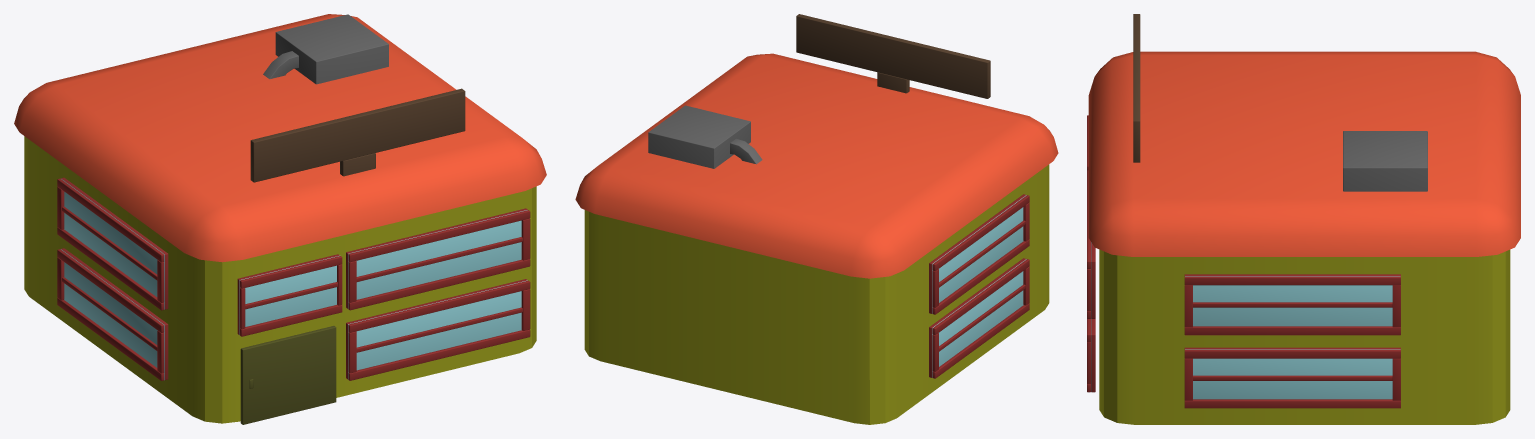
File: GeografiaLevel1.fbx
3 renders of one model, left to right at view 1: azimuth 30°, elevation 25°; view 2: azimuth 150°, elevation 25°; view 3: azimuth 270°, elevation 25°, orthographic. The views are drawn at different scales.
Visible parts, largest first — view 1: Predio_geography_nivel_01, Janelas_predio_geo_01; view 2: Predio_geography_nivel_01, Janelas_predio_geo_01; view 3: Predio_geography_nivel_01, Janelas_predio_geo_01.
Part boxes in pixels (x1,y1,x2,y2): Predio_geography_nivel_01: (14,14,546,423); Janelas_predio_geo_01: (57,14,530,424); Predio_geography_nivel_01: (575,53,1058,424); Janelas_predio_geo_01: (648,14,1029,378); Predio_geography_nivel_01: (1088,51,1520,424); Janelas_predio_geo_01: (1087,14,1427,408).
Bounding box in the file's own units: 1041 × 728 × 1055.
